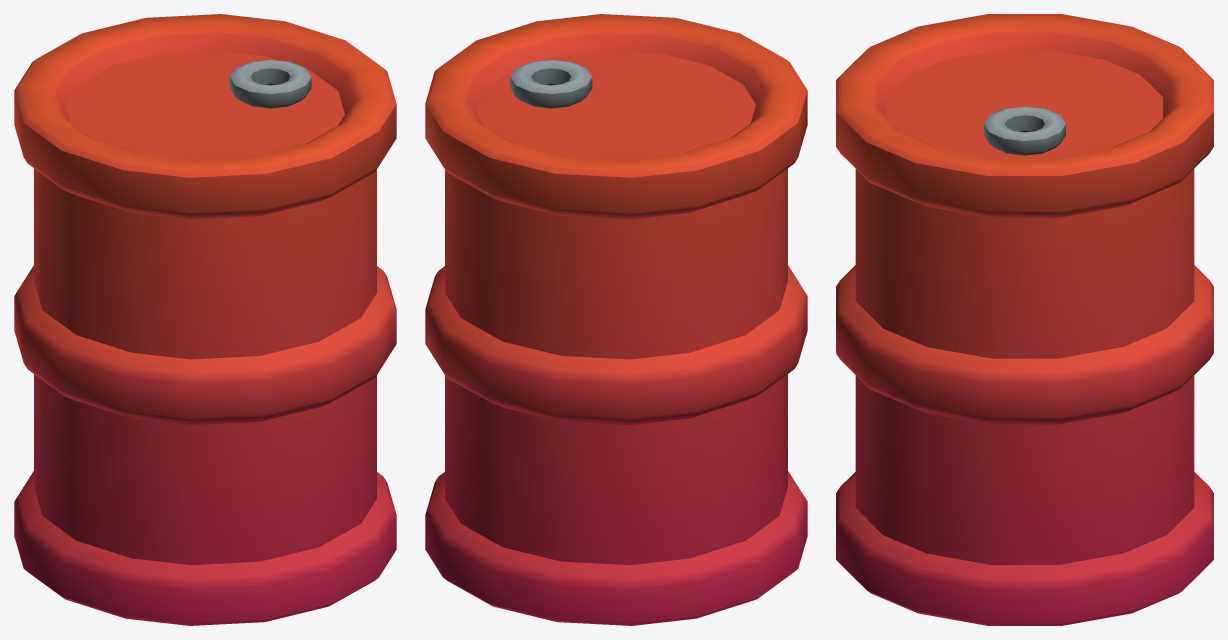
File: kk_fuel_barrel.glb
The picture shows the model from 3 angles, left to right: view 1: azimuth 30°, elevation 25°; view 2: azimuth 150°, elevation 25°; view 3: azimuth 270°, elevation 25°; orthographic projection.
Visible parts, largest first — view 1: Fuel_A_Barrel; view 2: Fuel_A_Barrel; view 3: Fuel_A_Barrel.
Boxes of the visible parts, <box> form: Fuel_A_Barrel: <box>14,14,396,625</box>; Fuel_A_Barrel: <box>425,14,807,625</box>; Fuel_A_Barrel: <box>836,14,1213,625</box>.
Bounding box in the file's own units: 0.67 × 0.9 × 0.67.
1 material, 1 textured.
